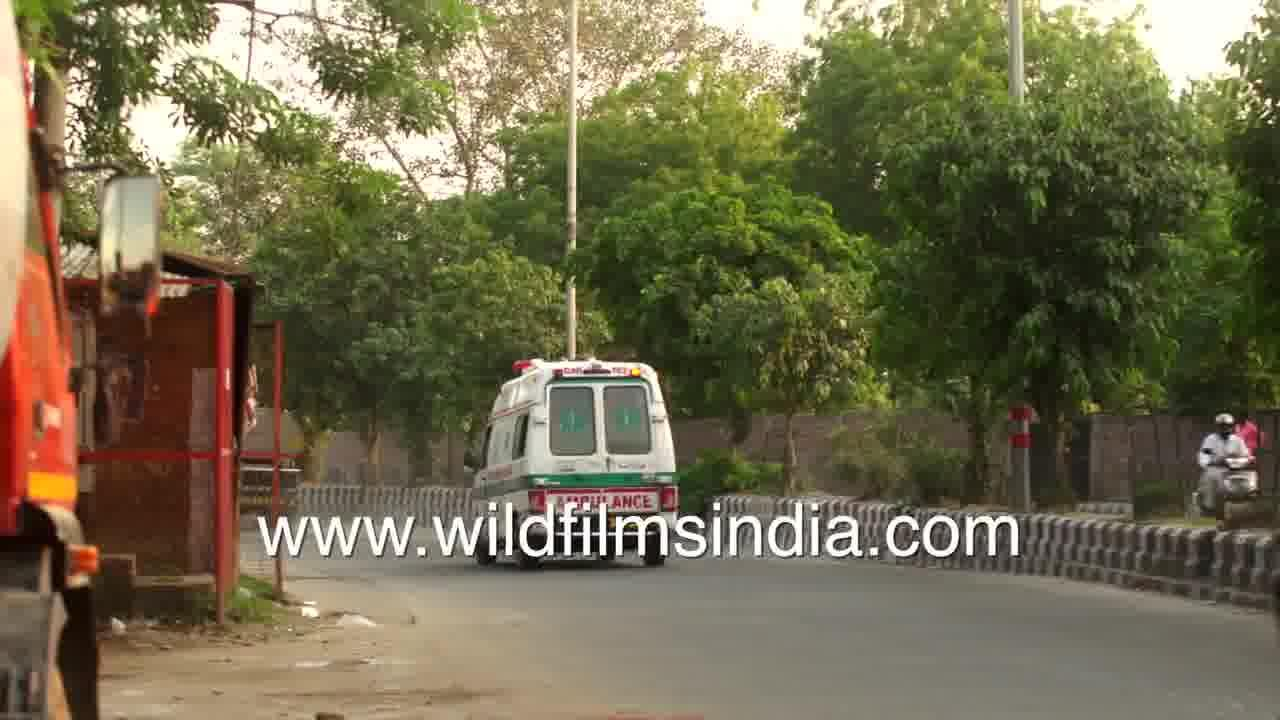AMBULANCE: (465, 346, 708, 501)
